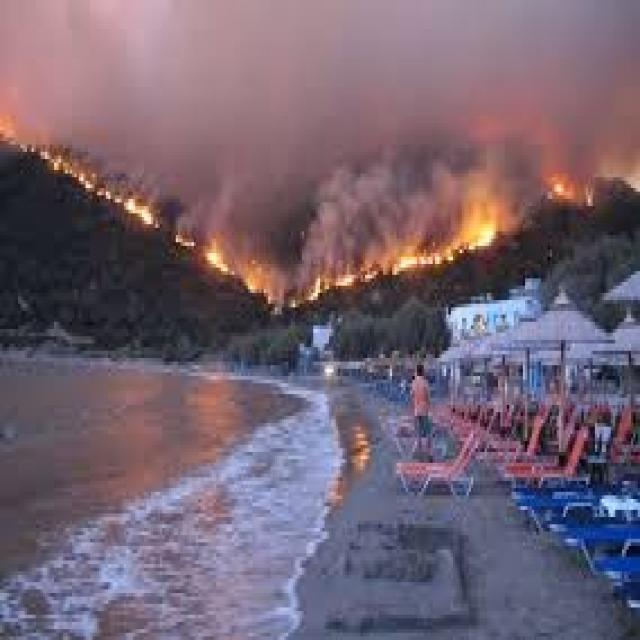Fire: (0, 97, 640, 321)
Smoke: (0, 0, 640, 111)
